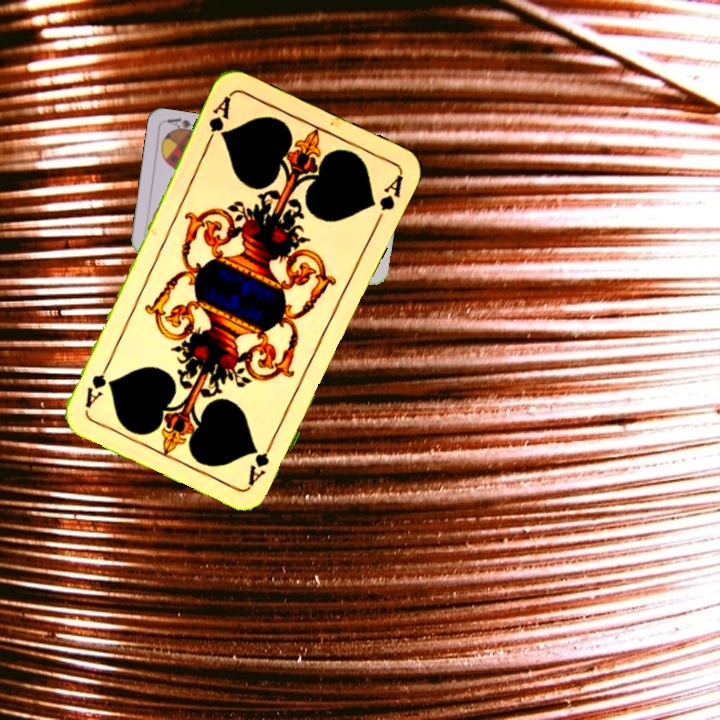GA: (244, 433, 278, 489), (202, 92, 234, 148)
